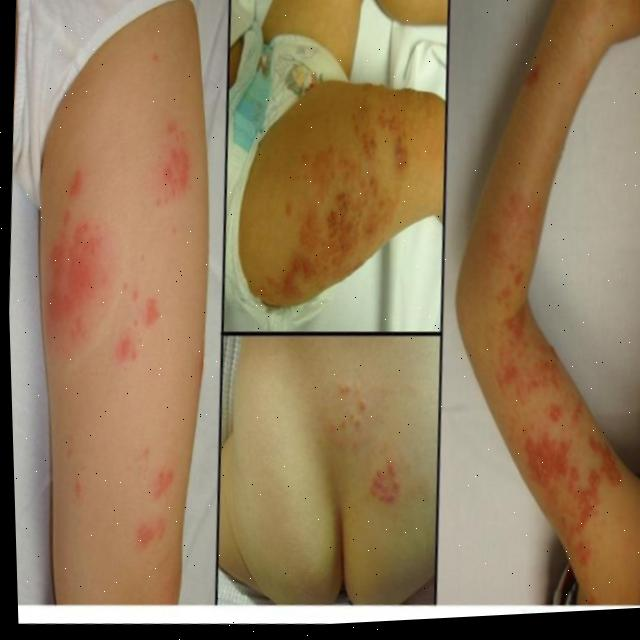Shingles: (267, 99, 403, 286), (513, 401, 628, 568), (42, 175, 100, 352), (477, 187, 546, 319), (136, 454, 191, 543), (492, 323, 555, 399), (151, 133, 200, 207), (321, 383, 378, 441), (364, 456, 405, 505), (137, 299, 160, 329)
